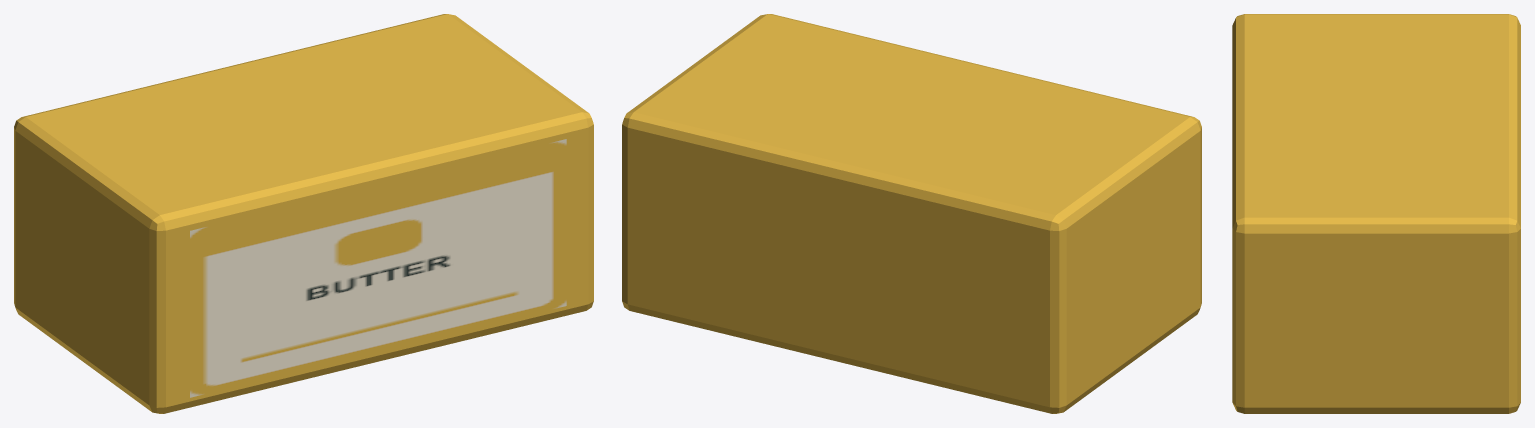
The model's file is butter.fbx.
The picture shows the model from 3 angles, left to right: view 1: azimuth 30°, elevation 25°; view 2: azimuth 150°, elevation 25°; view 3: azimuth 270°, elevation 25°; orthographic projection.
Visible parts, largest first — view 1: butter; view 2: butter; view 3: butter.
Boxes of the visible parts, box(x1,y1,x2,y2) form: butter: box(14, 14, 593, 413); butter: box(622, 14, 1201, 413); butter: box(1232, 14, 1520, 413).
Bounding box in the file's own units: 21 × 9 × 12.1.
